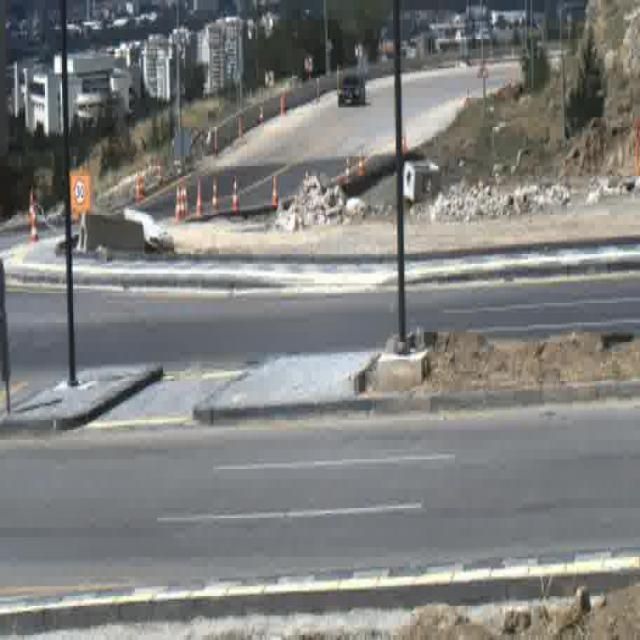Car: (337, 72, 367, 105)
